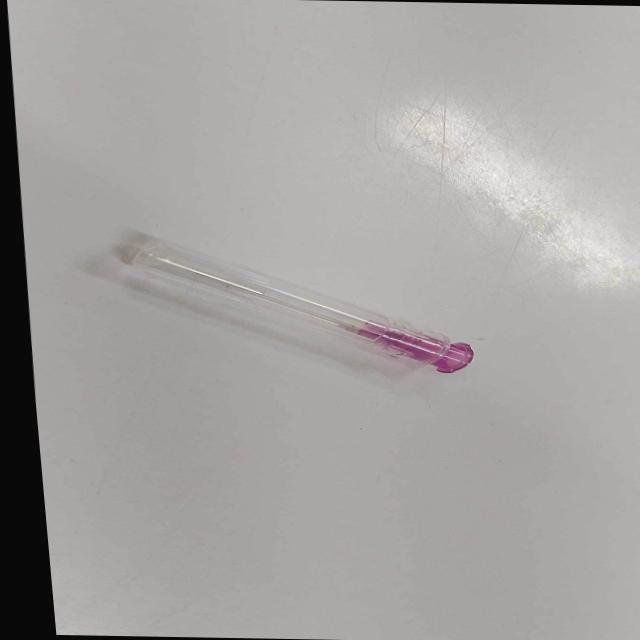General: (345, 318, 475, 376)
Pathological: (3, 2, 637, 636)
Sharps: (114, 229, 475, 375)
